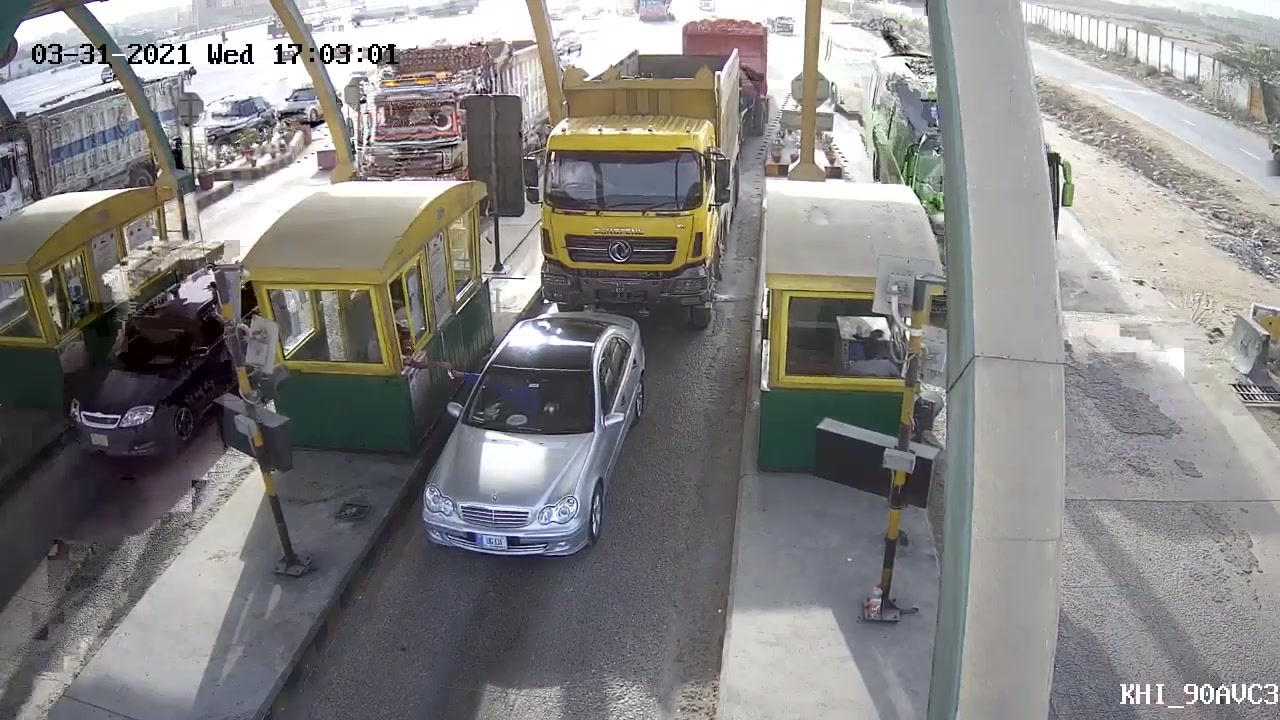F1: (407, 308, 656, 588)
F5: (530, 44, 746, 326)
